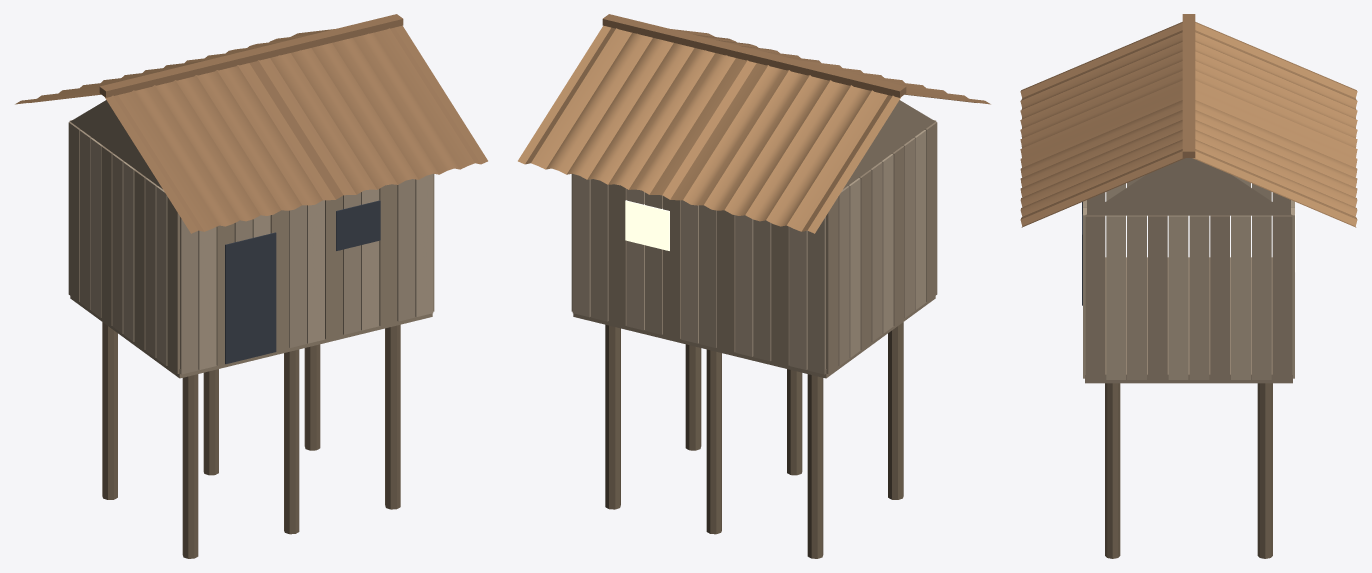
Rendered from stilt_shack_a.glb.
The picture shows the model from 3 angles, left to right: view 1: azimuth 30°, elevation 25°; view 2: azimuth 150°, elevation 25°; view 3: azimuth 270°, elevation 25°; orthographic projection. The views are drawn at different scales.
Parts seen in each view (by area): view 1: MK_stilt_shack_a; view 2: MK_stilt_shack_a; view 3: MK_stilt_shack_a.
Boxes of the visible parts, bbox=[...] form: MK_stilt_shack_a: bbox=[15, 14, 487, 558]; MK_stilt_shack_a: bbox=[518, 14, 990, 558]; MK_stilt_shack_a: bbox=[1020, 14, 1357, 558].
Size of the model in its own units: 4.7 by 6.78 by 4.87.
